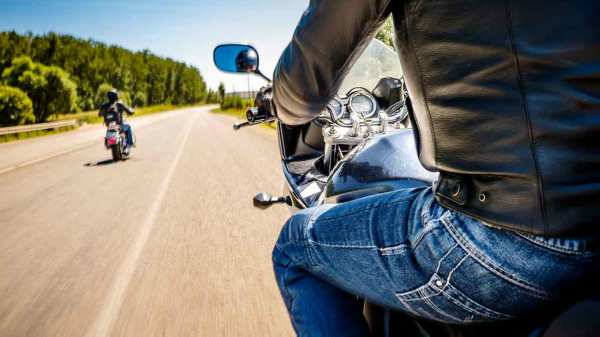Bike: (97, 109, 141, 160)
